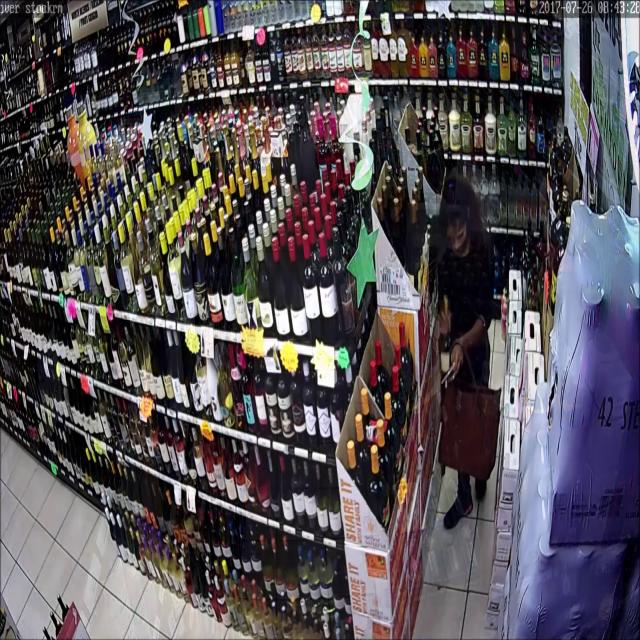Product: (434, 298, 456, 389)
shoplifting: (410, 172, 524, 551)
